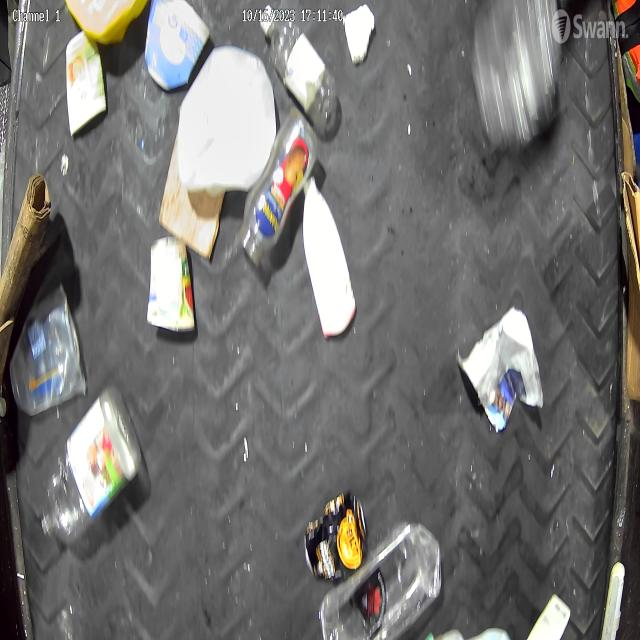can: (304, 490, 364, 579), (148, 236, 198, 337)
plastic_bottle: (328, 519, 444, 640), (261, 6, 339, 122)
